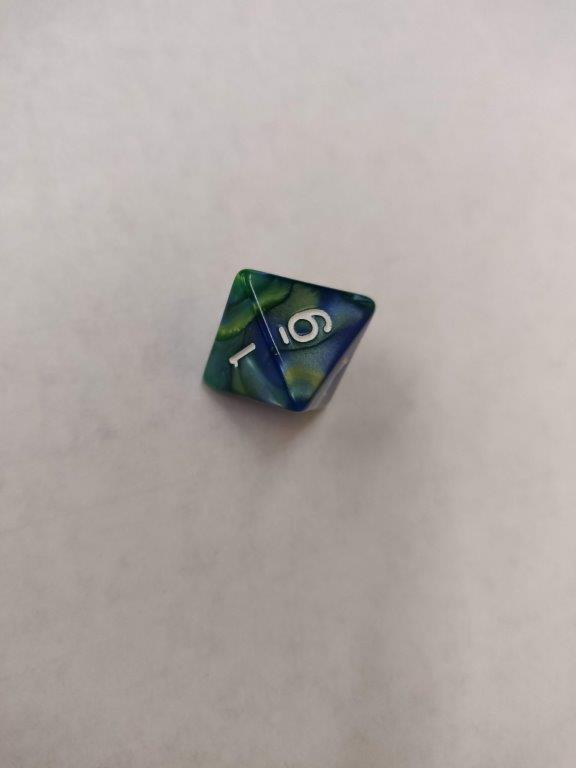d8-6: (200, 261, 376, 418)
